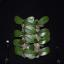leaf: (24, 34, 38, 44), (23, 50, 37, 60), (24, 25, 38, 34), (38, 16, 49, 27), (37, 28, 51, 36), (38, 47, 50, 56), (13, 46, 24, 55), (38, 36, 50, 44), (24, 19, 37, 26), (14, 15, 23, 25), (13, 30, 24, 37), (13, 39, 24, 46), (24, 44, 35, 50), (27, 16, 35, 19), (34, 39, 38, 43)
